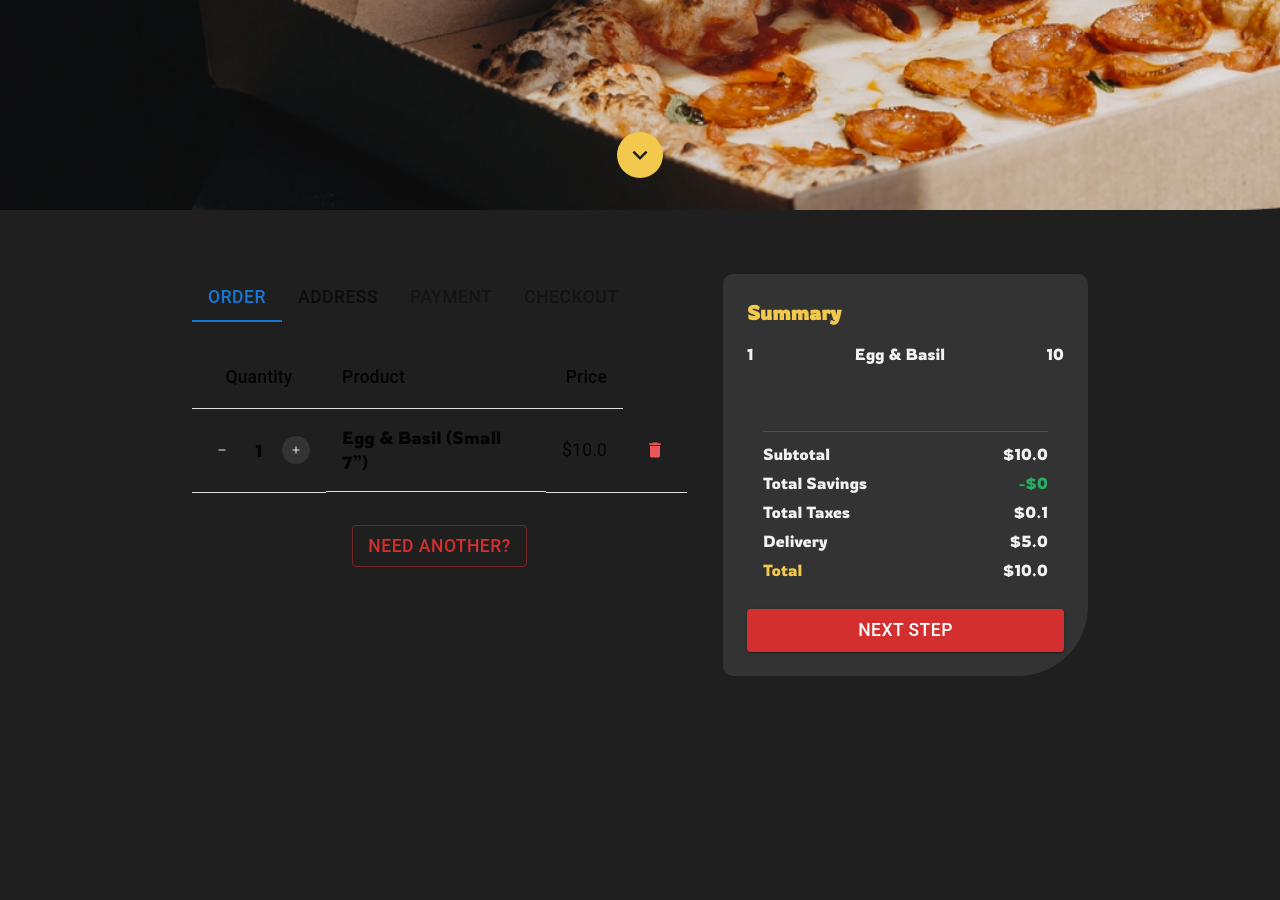
Test: OrderTableComponent › should open remove modal and close it
The width and height of the screenshot is (1280, 900).
(page scrolled)
Click the button with test id "product-item-delete" at {"x": 655, "y": 450}, box [639,439,671,461]
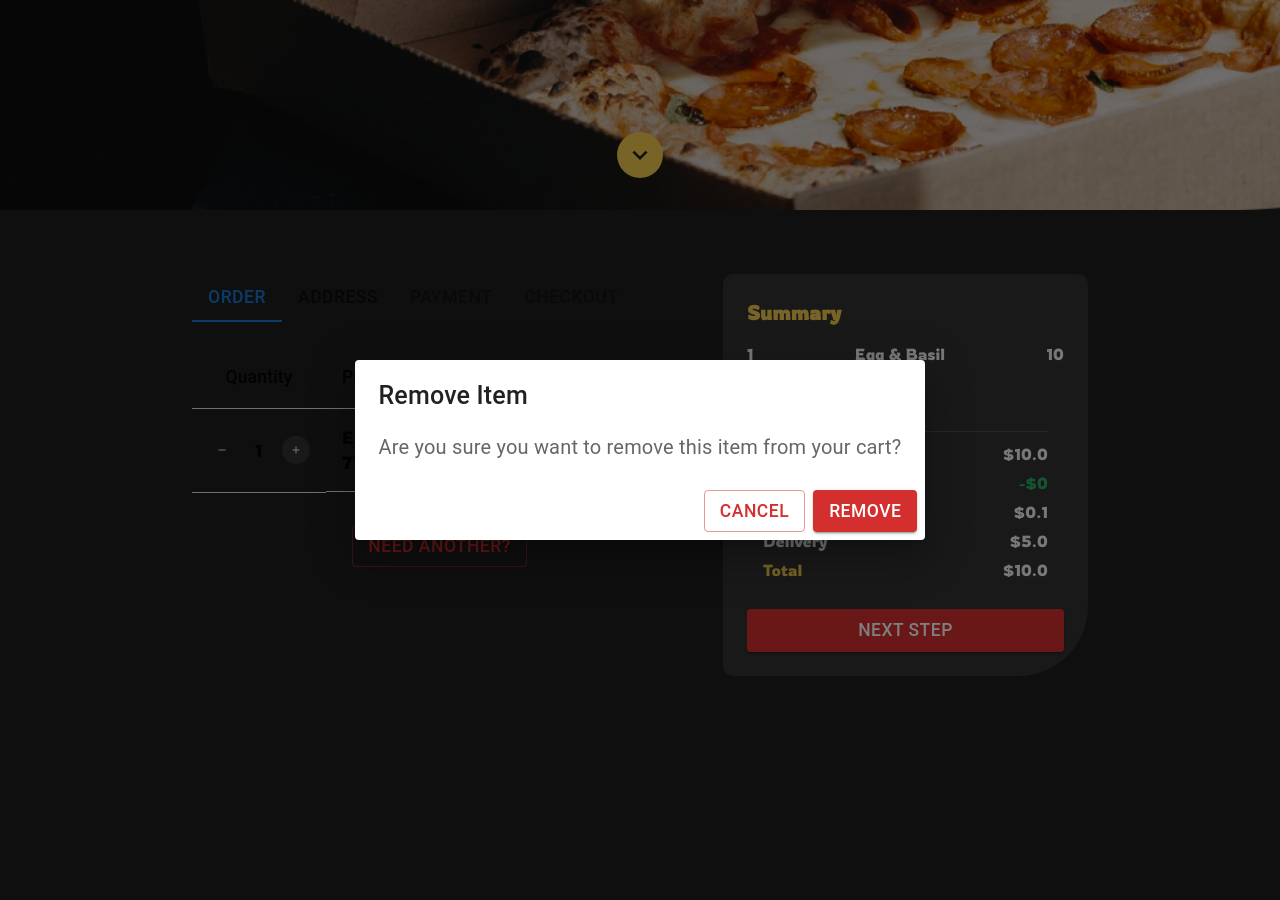
Now the element with test id "remove-dialog" is shown
Click the button "Cancel" at {"x": 755, "y": 511}, box [704,490,805,532]
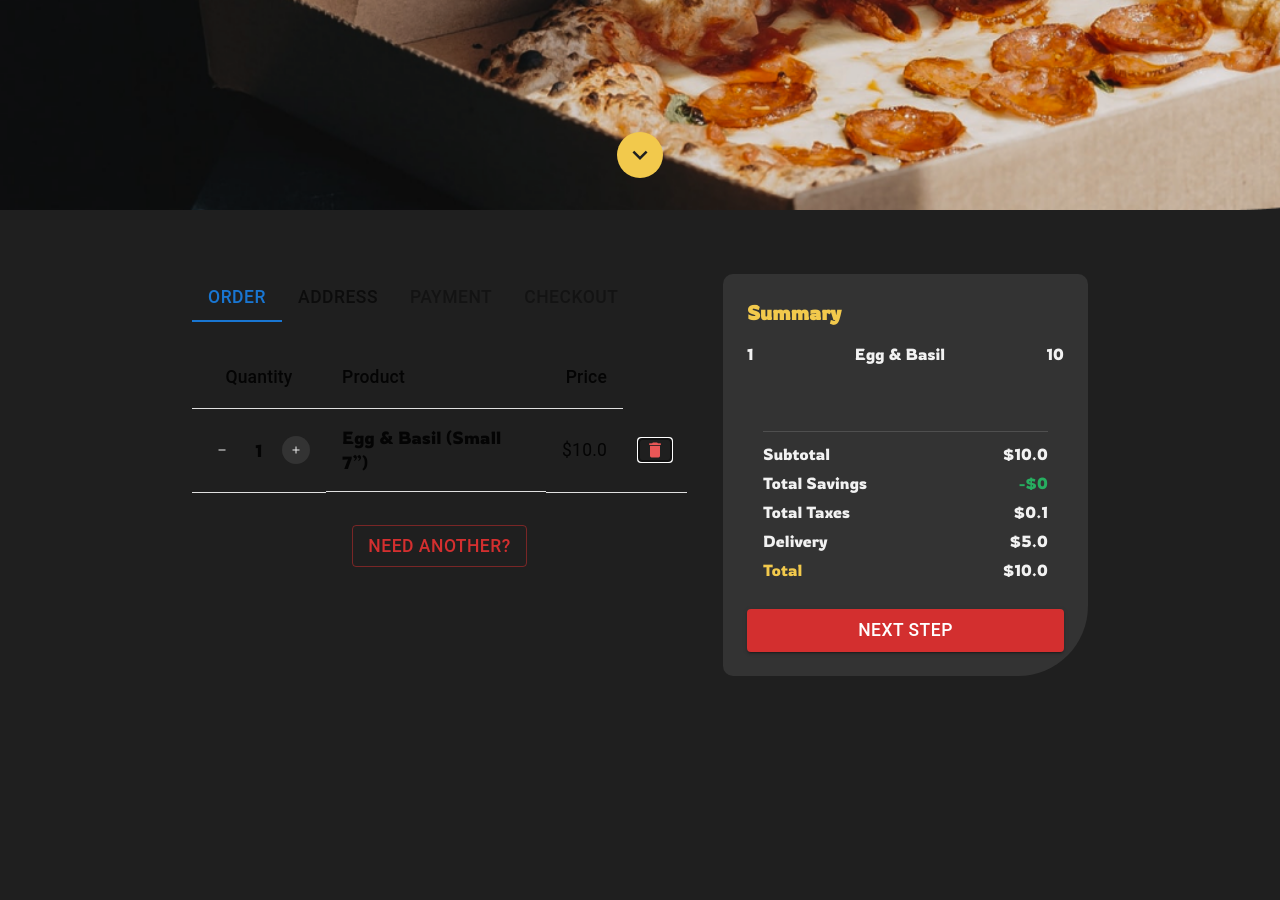
Now the element with test id "remove-dialog" is gone
